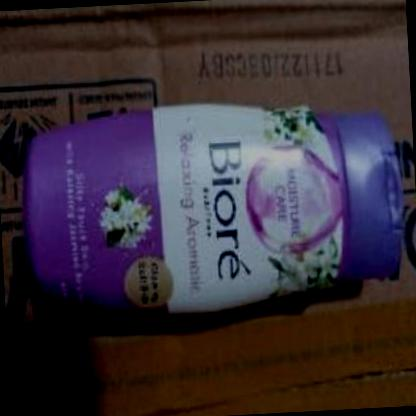objects: (28, 98, 402, 314)
